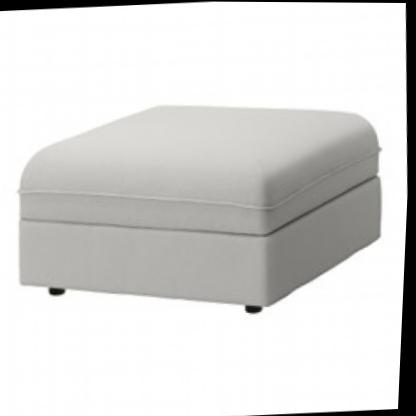Sofa: (4, 77, 394, 331)
